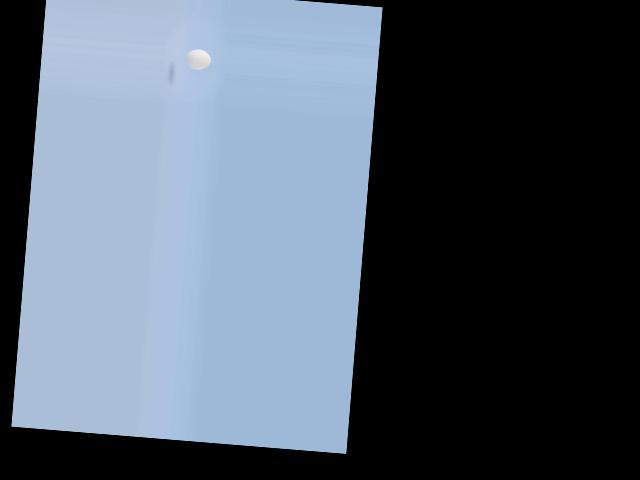egg: (184, 48, 211, 70)
